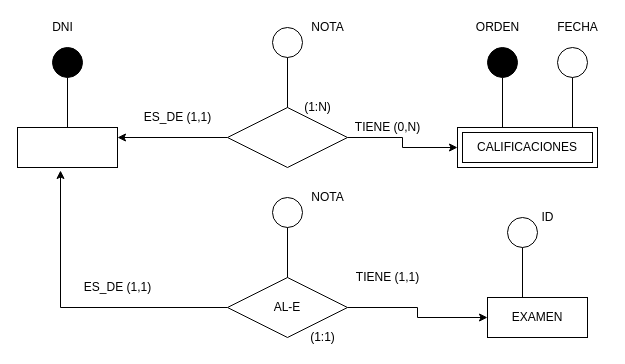
The diagram is 625 pixels wide and 364 high, and some of its shapes have lost their labels. The box of each missing label's shape, as (x1, y1, x2, y2) in pixels:
AL-C: (226, 106, 348, 168)
ALUMNOS: (16, 126, 118, 168)
